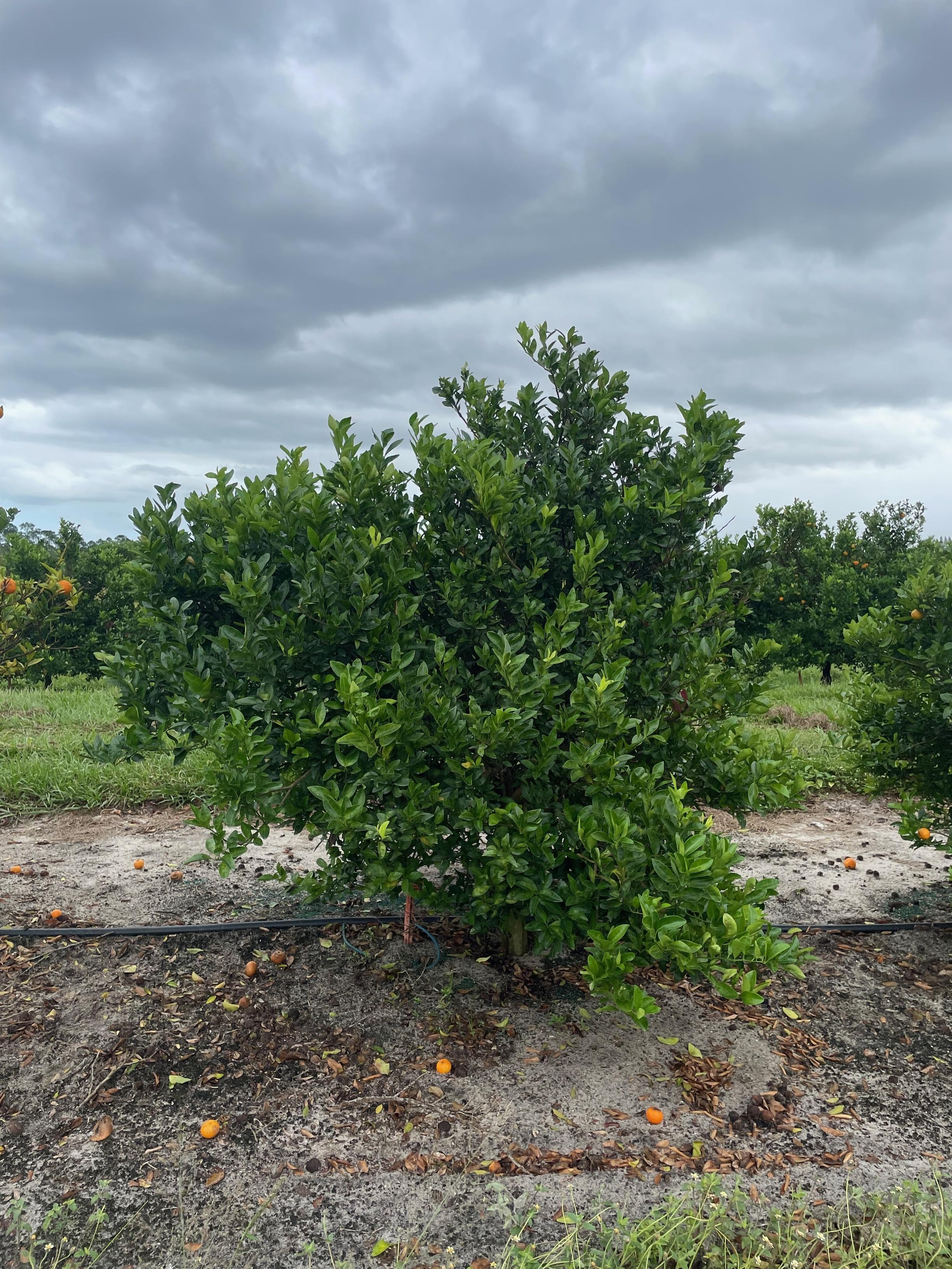fruit_on_ground: (51, 577, 75, 599), (0, 574, 20, 597), (915, 825, 932, 842), (908, 607, 926, 623), (841, 548, 850, 558), (776, 594, 786, 603), (852, 558, 861, 566)
fruit_on_tree: (198, 1116, 222, 1141), (644, 1104, 666, 1125), (268, 947, 288, 967), (304, 1156, 326, 1174), (242, 958, 261, 978), (434, 1056, 453, 1075), (236, 993, 252, 1010), (842, 856, 858, 871), (169, 867, 185, 881), (49, 906, 63, 919), (132, 856, 146, 869), (8, 862, 23, 874), (38, 866, 52, 878)
